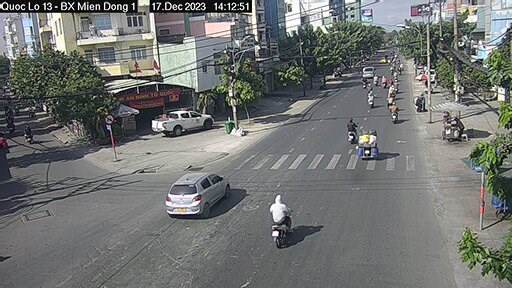car: (166, 169, 231, 218), (150, 109, 214, 137)
motorbike: (270, 191, 296, 248), (342, 116, 360, 145), (391, 102, 401, 124), (361, 66, 376, 77)
